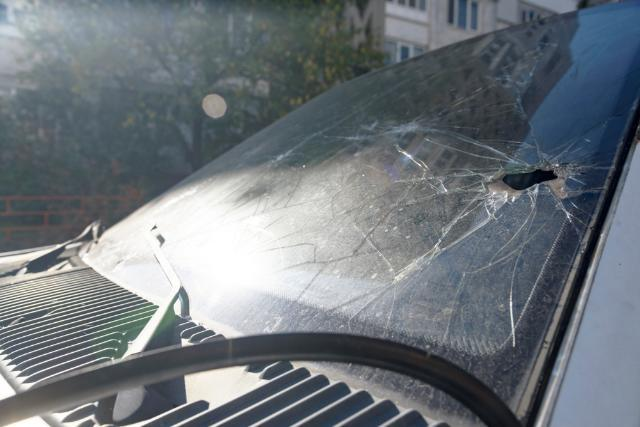glass shatter: (80, 0, 640, 427)
